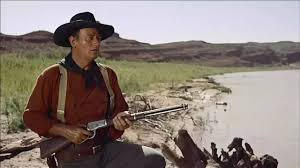Gun: (68, 101, 181, 146)
